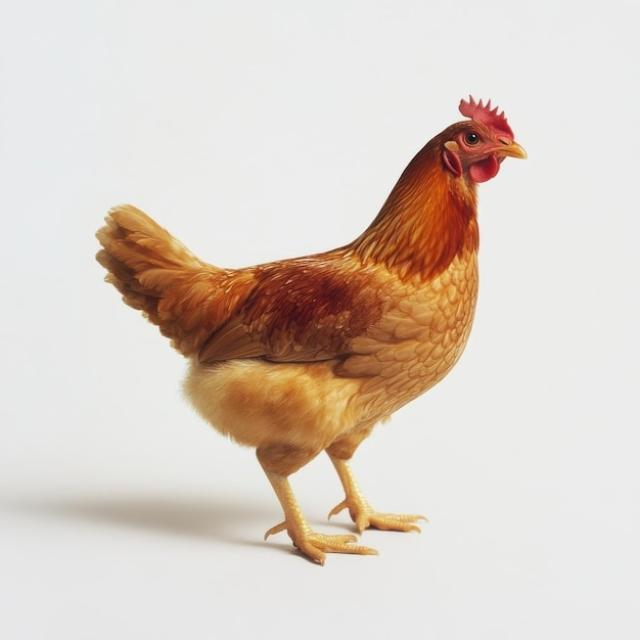Chicken: (93, 94, 527, 566)
